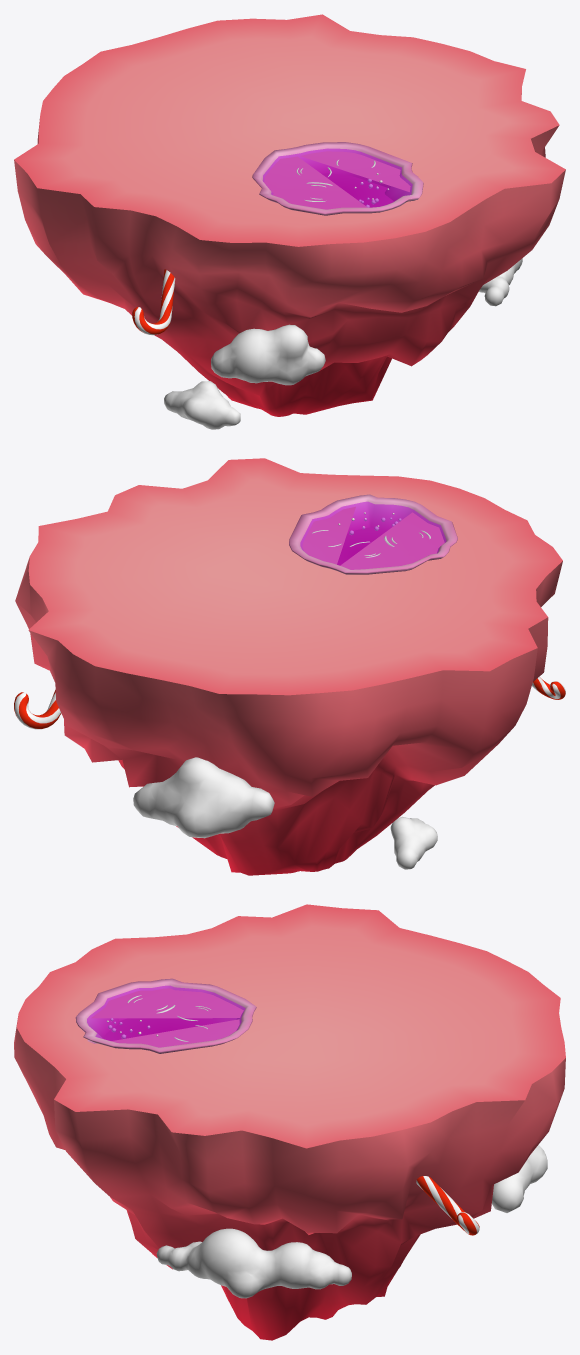
The model's file is Island_V3.fbx.
3 renders of one model, top to bottom at view 1: azimuth 30°, elevation 25°; view 2: azimuth 150°, elevation 25°; view 3: azimuth 270°, elevation 25°, orthographic. The views are drawn at different scales.
Parts seen in each view (by area): view 1: Island_V3; view 2: Island_V3; view 3: Island_V3.
Boxes of the visible parts, bbox=[...] form: Island_V3: bbox=[14, 14, 565, 429]; Island_V3: bbox=[14, 458, 565, 875]; Island_V3: bbox=[14, 904, 565, 1340].
Size of the model in its own units: 2662 by 1488 by 2544.
